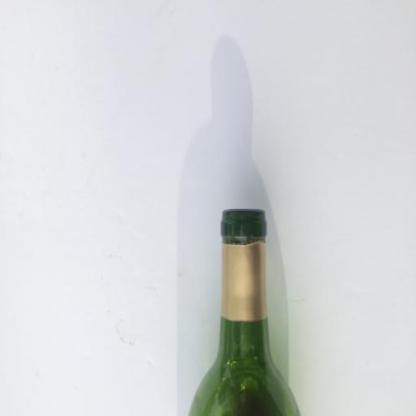trash: (186, 208, 302, 415)
